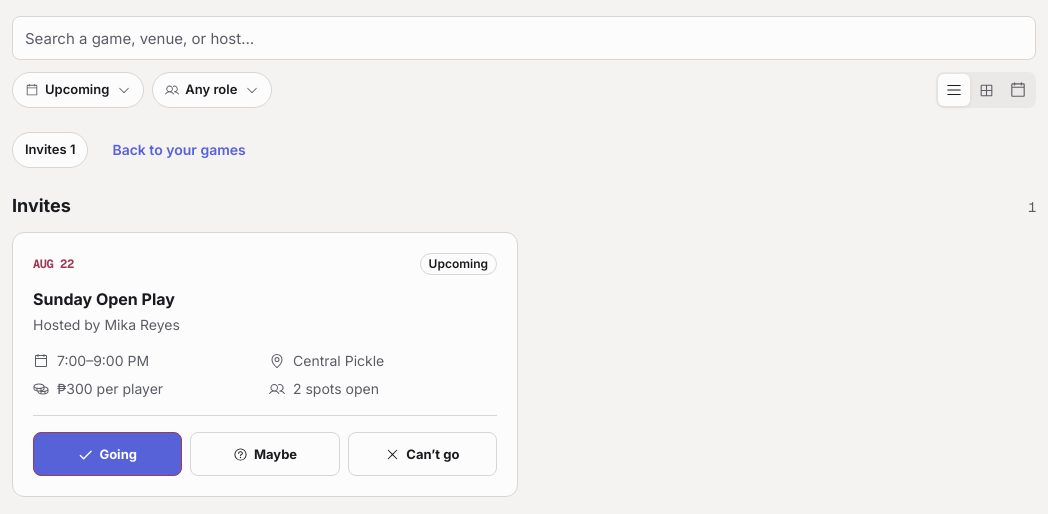
GameCollection › lets a player respond to an invite without opening the game
The image size is (1048, 514).
expect the text "Hosted by Mika Reyes" is shown: met, box [33,316,180,333]
expect the text "₱300 per player" is shown: met, box [57,379,163,399]
Click the button "Going" at (108, 454), box [33,432,182,476]
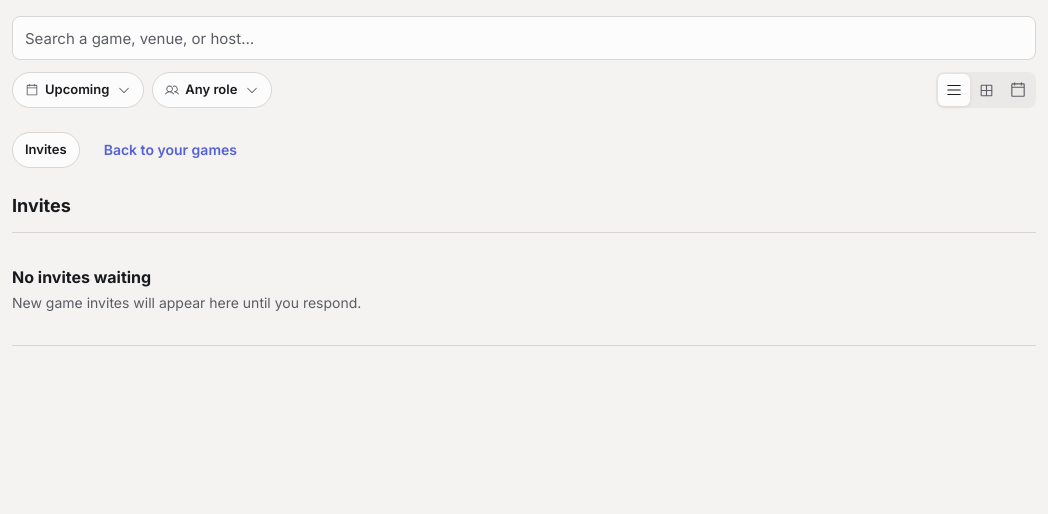
expect the text "No invites waiting" is shown: met, box [12,267,151,287]
